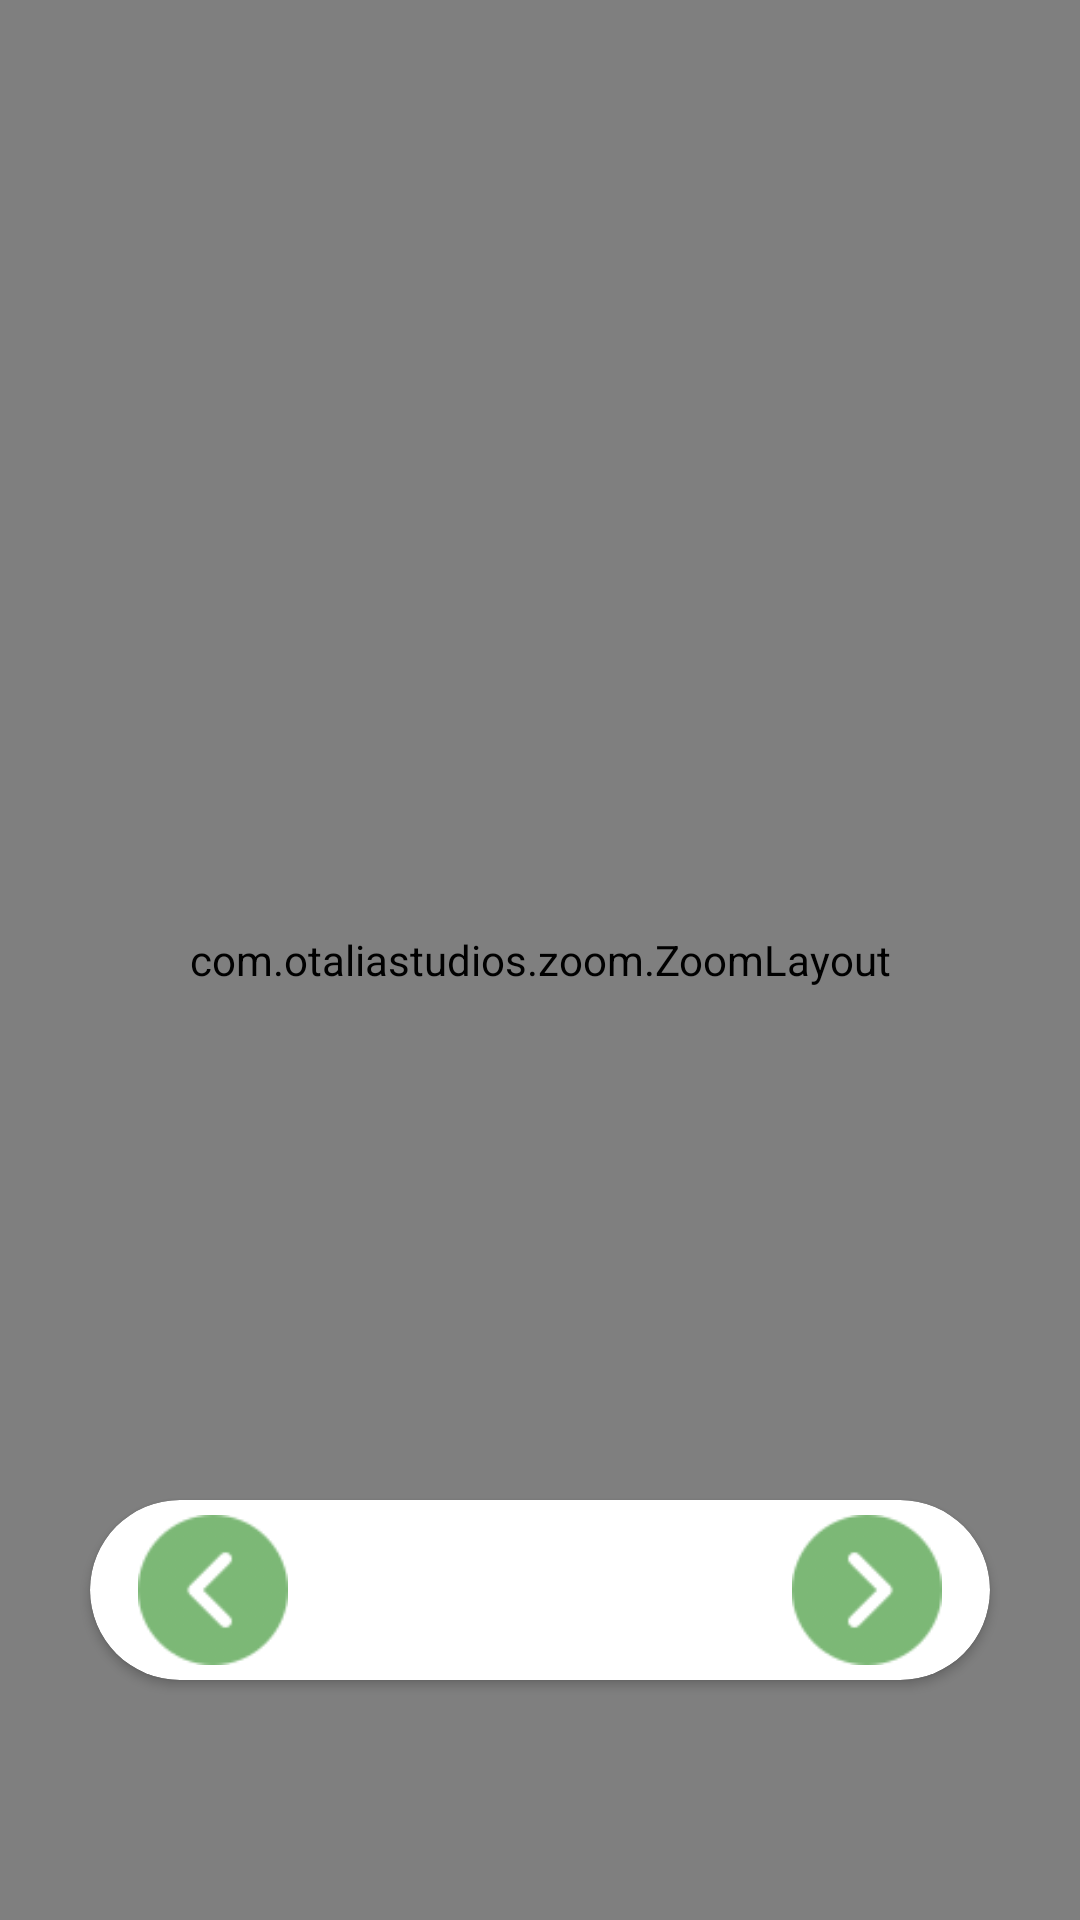

Screen size 1080*1920. Icon name, then its box in pixels as (x1, y1, x2, y2):
back: (138, 1515, 288, 1665)
next: (792, 1515, 942, 1665)
